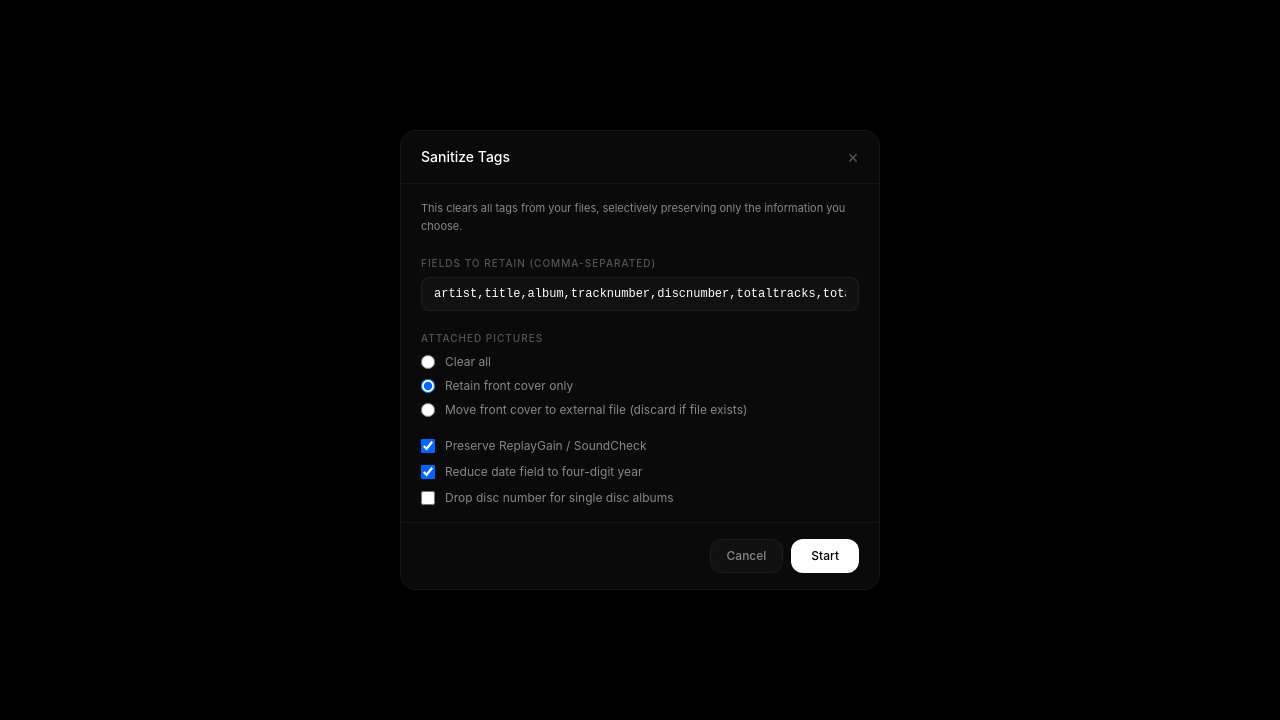
Test case: TagSanitizerModal › shows cover filename input only when move_front is selected
Expected: the field showing "folder.jpg" is not shown
# Select "Move front cover to external file"
Step 1. Click the radio button labelled "Move front cover to external file (discard if file exists)" → (428, 410), box [421,403,435,417]
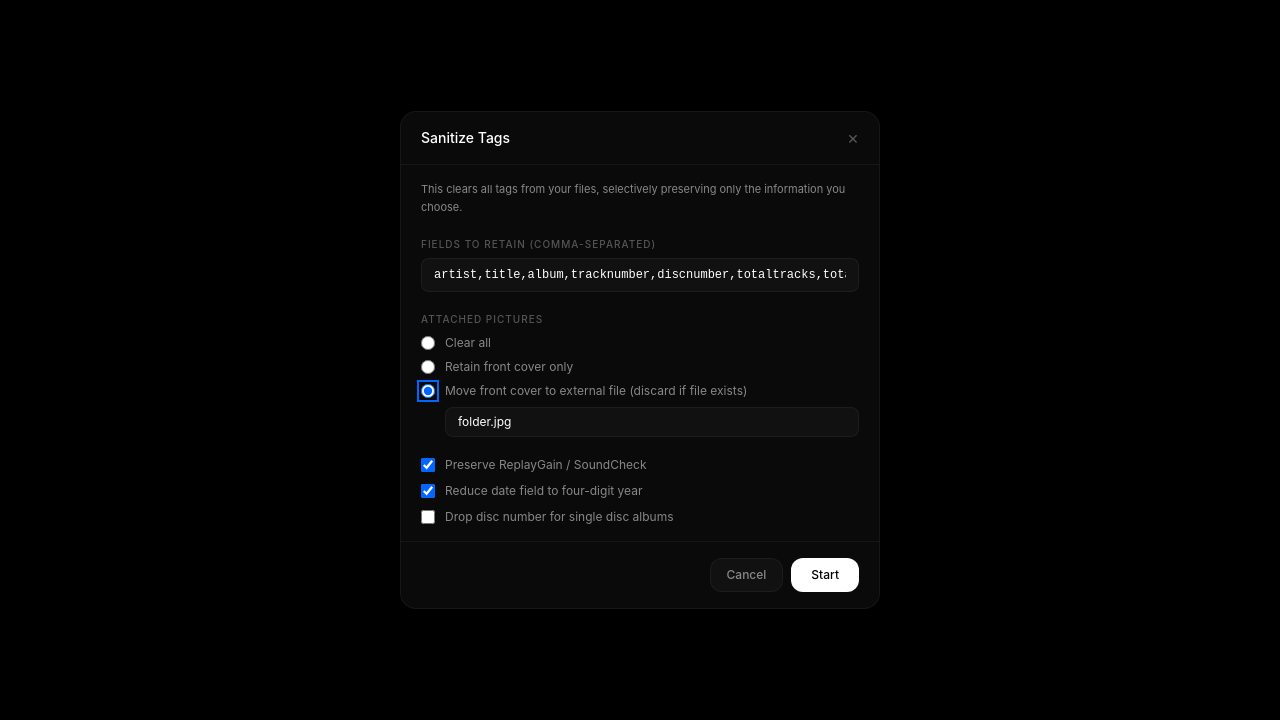
Expected: the field showing "folder.jpg" below "Retain front cover only" is shown, [445,407,859,437]
